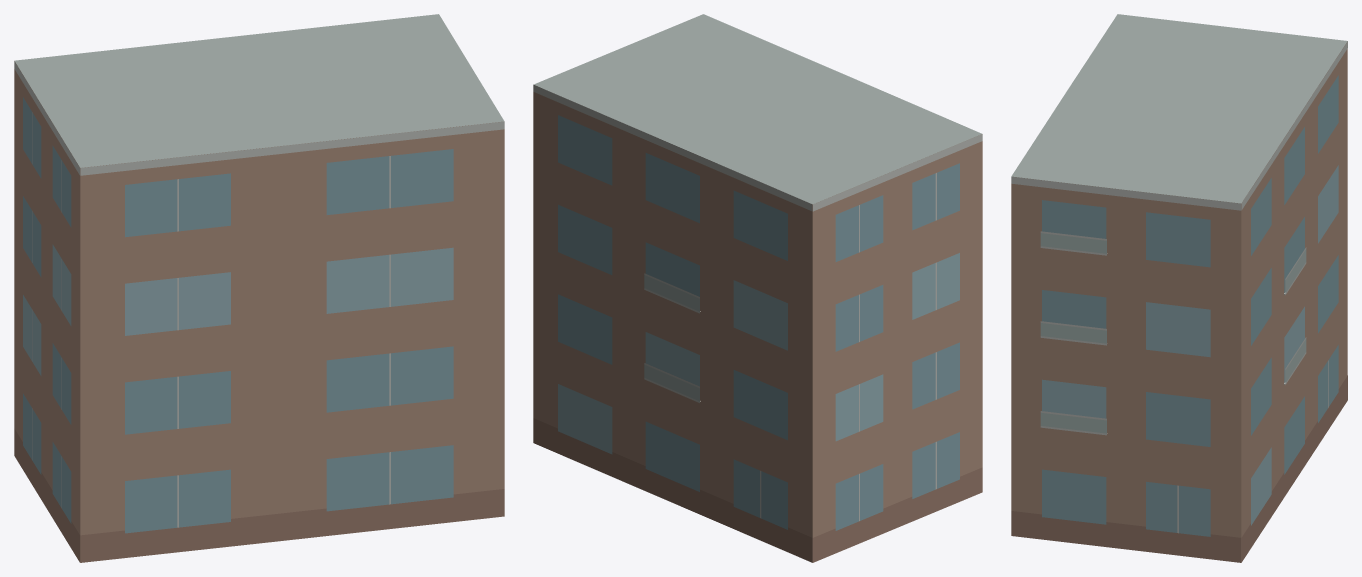
File: residential-6a41df60-df4b-481e-95b6-af83f34ec89c.glb
3 views of the same model, side by side, from view 1: azimuth 30°, elevation 25°; view 2: azimuth 150°, elevation 25°; view 3: azimuth 270°, elevation 25° (orthographic). The views are drawn at different scales.
Visible parts, largest first — view 1: residential-6a41df60-df4b-481e-95b6-af83f34ec89c.tmp; view 2: residential-6a41df60-df4b-481e-95b6-af83f34ec89c.tmp; view 3: residential-6a41df60-df4b-481e-95b6-af83f34ec89c.tmp.
Boxes of the visible parts, x1,y1,x2,y2 form: residential-6a41df60-df4b-481e-95b6-af83f34ec89c.tmp: [14, 14, 504, 562]; residential-6a41df60-df4b-481e-95b6-af83f34ec89c.tmp: [533, 14, 982, 562]; residential-6a41df60-df4b-481e-95b6-af83f34ec89c.tmp: [1011, 14, 1347, 562].
Size of the model in its own units: 13.81 by 12.2 by 10.36.
